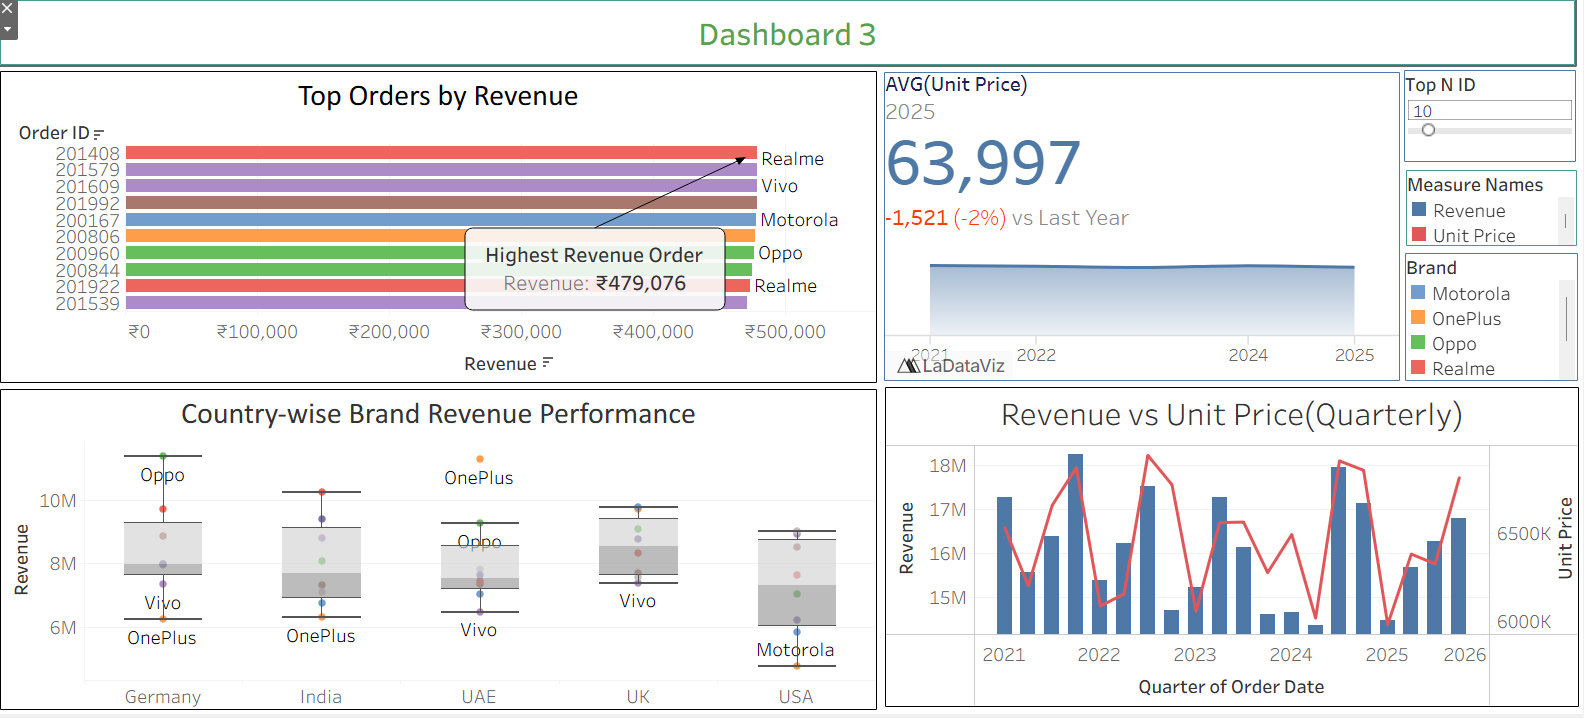

The page's visual inventory and layout, read from the dashboard file:
{"tool":"tableau","page":{"name":"Dashboard 3","canvas":[1000,1000],"units":"permille","ordinal":2},"visuals":[{"type":"text","box":[3.7,23.3,972.2,89]},{"type":"parameter","param":"[Parameters].[Parameter 1]","box":[870.4,119.2,106.2,126]},{"type":"worksheet","title":"Top Orders by Revenue","mark":"Automatic","rows":["Order_ID"],"cols":["Revenue"],"box":[3.7,120.5,541.4,427.4]},{"type":"worksheet","title":"Kpi","box":[549.4,121.9,318.5,423.3]},{"type":"legend","title":"Revenue vs Unit Price","param":"[federated.1o2bfm91vwblvg1ehwoeh1iahq6k].[:Measure Names]","box":[871.6,256.2,105.6,104.1]},{"type":"legend","title":"Top Orders by Revenue","param":"[federated.1o2bfm91vwblvg1ehwoeh1iahq6k].[none:Brand:nk]","box":[871,369.9,106.8,175.3]},{"type":"worksheet","title":"Revenue vs Unit Price","mark":"Automatic","rows":["Revenue","Unit_Price"],"cols":["Order_Date"],"box":[550,553.4,428.4,438.4]},{"type":"worksheet","title":"country wise revenue","mark":"Circle","rows":["Revenue"],"cols":["Country"],"box":[3.7,556.2,541.4,439.7]}]}

Visuals, with their boxes on the dashboard's canvas, which has no fixed pixel size, in thousandths of its width and height (x1, y1, x2, y2). These are canvas units, not pixel positions in the 1584x718 screenshot, which may show the page scaled, cropped or inside an application window:
text: left=4, top=23, right=976, bottom=112
parameter: left=870, top=119, right=977, bottom=245
"Top Orders by Revenue" worksheet: left=4, top=120, right=545, bottom=548
"Kpi" worksheet: left=549, top=122, right=868, bottom=545
"Revenue vs Unit Price" legend: left=872, top=256, right=977, bottom=360
"Top Orders by Revenue" legend: left=871, top=370, right=978, bottom=545
"Revenue vs Unit Price" worksheet: left=550, top=553, right=978, bottom=992
"country wise revenue" worksheet (Circle marks): left=4, top=556, right=545, bottom=996
